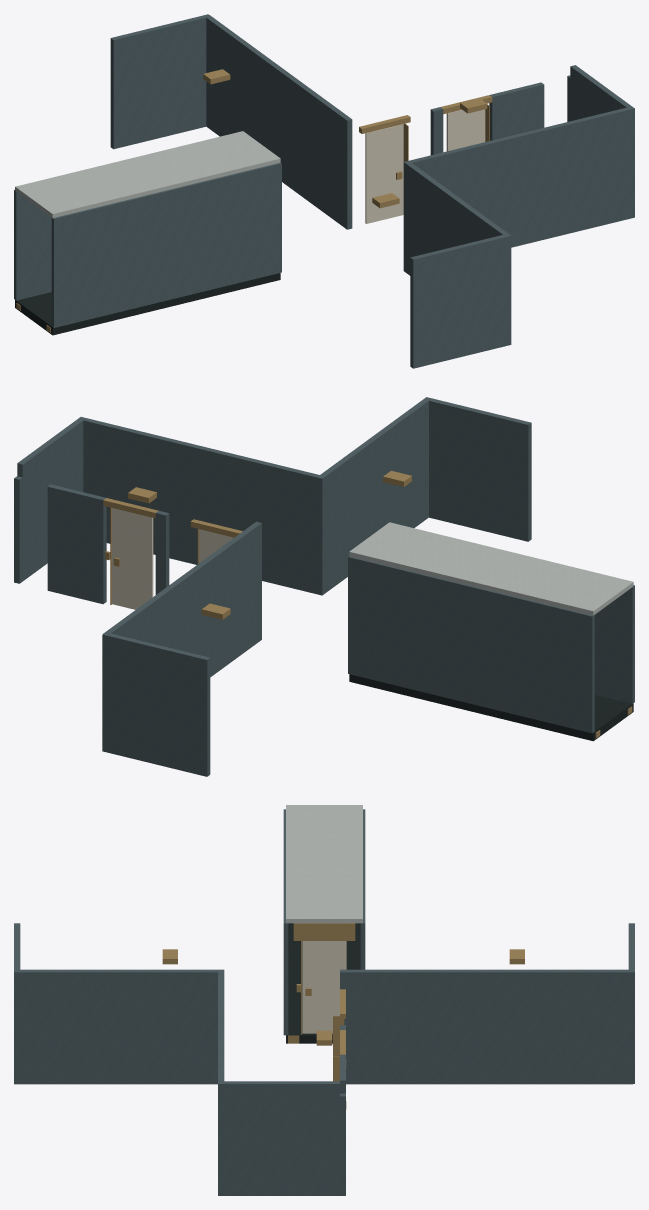
Rendered from D04_PORT_CENTRAL_COMMONS_REAR_ROUTE_r005.glb.
3 views of the same model, one above another, from view 1: azimuth 30°, elevation 25°; view 2: azimuth 150°, elevation 25°; view 3: azimuth 270°, elevation 25° (orthographic). The views are drawn at different scales.
Visible parts, largest first — view 1: PCR_BridgeWall1, PCR_FrontGuestBoundary, PCR_RearSouthBoundary, PCR_RearNorthEnd, PCR_RearSouthEnd, PCR_BridgeRoof, PCR_RearQuietBoundary, PCR_BridgeWall-1, PCR_G1_D04PC_CourtSouth_Leaf, PCR_BridgeFloor, PCR_StockFrontFillEast, PCR_EastGuestBoundary (+2 smaller); view 2: PCR_BridgeWall-1, PCR_FrontGuestBoundary, PCR_RearSouthEnd, PCR_RearNorthEnd, PCR_RearQuietBoundary, PCR_RearSouthBoundary, PCR_BridgeRoof, PCR_StockFrontFillEast, PCR_EastGuestBoundary, PCR_BridgeWall1, PCR_G2_D04PC_CourtSouth_Leaf, PCR_BridgeFloor (+3 smaller); view 3: PCR_RearSouthBoundary, PCR_RearQuietBoundary, PCR_EastGuestBoundary, PCR_BridgeRoof, PCR_G0_D04PC_CourtSouth_Leaf, PCR_BridgeFloor, PCR_FrontGuestBoundary, PCR_RearPortalHeader, PCR_BridgeWall1, PCR_RearNorthEnd, PCR_BridgeWall-1, PCR_FrontSouthJoinEast (+1 smaller).
Boxes of the visible parts, left/top/right/bottom form: PCR_BridgeWall1: left=51, top=162, right=281, bottom=327; PCR_FrontGuestBoundary: left=403, top=107, right=634, bottom=247; PCR_RearSouthBoundary: left=206, top=15, right=352, bottom=229; PCR_RearNorthEnd: left=410, top=234, right=511, bottom=368; PCR_RearSouthEnd: left=110, top=14, right=210, bottom=149; PCR_BridgeRoof: left=15, top=131, right=280, bottom=217; PCR_RearQuietBoundary: left=403, top=161, right=509, bottom=275; PCR_BridgeWall-1: left=14, top=189, right=51, bottom=300; PCR_G1_D04PC_CourtSouth_Leaf: left=365, top=124, right=403, bottom=223; PCR_BridgeFloor: left=15, top=273, right=280, bottom=335; PCR_StockFrontFillEast: left=489, top=82, right=544, bottom=140; PCR_EastGuestBoundary: left=570, top=65, right=634, bottom=218; PCR_BridgeWall-1: left=348, top=556, right=594, bottom=733; PCR_FrontGuestBoundary: left=78, top=417, right=325, bottom=595; PCR_RearSouthEnd: left=102, top=632, right=210, bottom=776; PCR_RearNorthEnd: left=424, top=397, right=531, bottom=541; PCR_RearQuietBoundary: left=316, top=398, right=430, bottom=595; PCR_RearSouthBoundary: left=103, top=521, right=261, bottom=677; PCR_BridgeRoof: left=349, top=522, right=633, bottom=615; PCR_StockFrontFillEast: left=47, top=484, right=106, bottom=604; PCR_EastGuestBoundary: left=17, top=417, right=85, bottom=581; PCR_BridgeWall1: left=594, top=585, right=634, bottom=703; PCR_G2_D04PC_CourtSouth_Leaf: left=112, top=508, right=153, bottom=609; PCR_BridgeFloor: left=349, top=674, right=633, bottom=741; PCR_RearSouthBoundary: left=340, top=969, right=632, bottom=1084; PCR_RearQuietBoundary: left=16, top=969, right=224, bottom=1084; PCR_EastGuestBoundary: left=218, top=1081, right=339, bottom=1195; PCR_BridgeRoof: left=286, top=805, right=362, bottom=923; PCR_G0_D04PC_CourtSouth_Leaf: left=302, top=941, right=346, bottom=1033; PCR_BridgeFloor: left=286, top=923, right=360, bottom=1043; PCR_FrontGuestBoundary: left=218, top=969, right=224, bottom=1195; PCR_RearPortalHeader: left=293, top=923, right=355, bottom=940; PCR_BridgeWall1: left=283, top=809, right=288, bottom=1035; PCR_RearNorthEnd: left=14, top=923, right=20, bottom=1084; PCR_BridgeWall-1: left=360, top=809, right=365, bottom=969; PCR_FrontSouthJoinEast: left=340, top=1093, right=345, bottom=1195.
Bounding box in the file's own units: 16.88 × 3.56 × 16.1.
7 materials, 7 textured.
